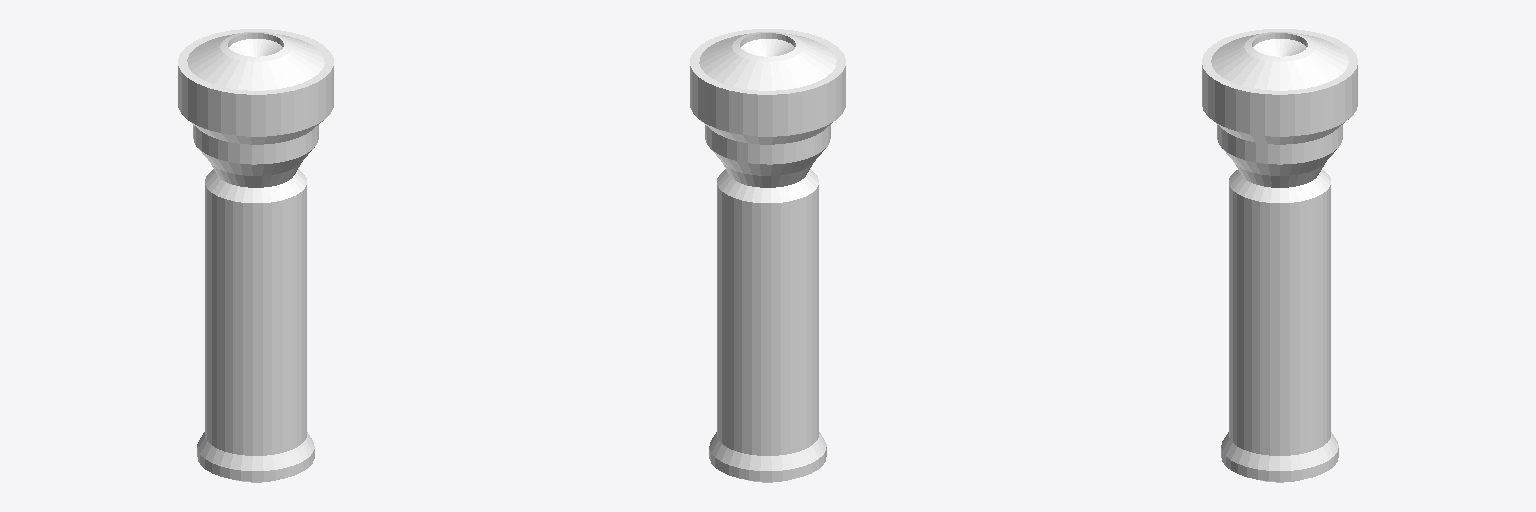
File: hull.obj
3 renders of one model, left to right at view 1: azimuth 30°, elevation 25°; view 2: azimuth 150°, elevation 25°; view 3: azimuth 270°, elevation 25°, orthographic.
Visible parts, largest first — view 1: Hull.001; view 2: Hull.001; view 3: Hull.001.
Boxes of the visible parts, x1,y1,x2,y2 form: Hull.001: [178, 29, 333, 482]; Hull.001: [690, 29, 845, 482]; Hull.001: [1202, 29, 1357, 482].
Bounding box in the file's own units: 1.46 × 4.35 × 1.46.